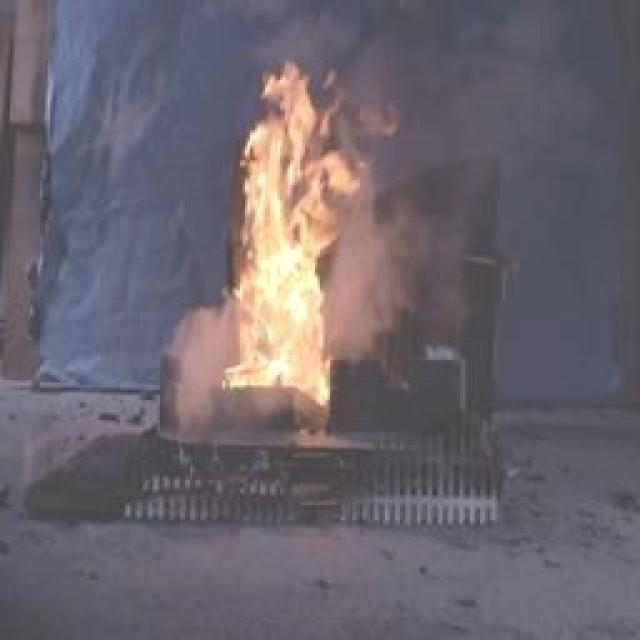fire: (215, 39, 410, 446)
